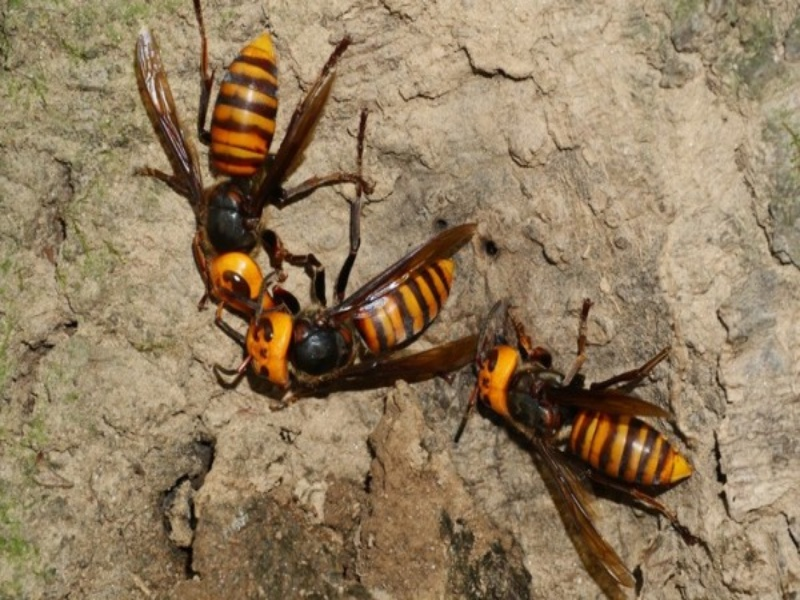asian_giant_hornet: (469, 333, 695, 490), (191, 24, 293, 315), (235, 260, 453, 390)
